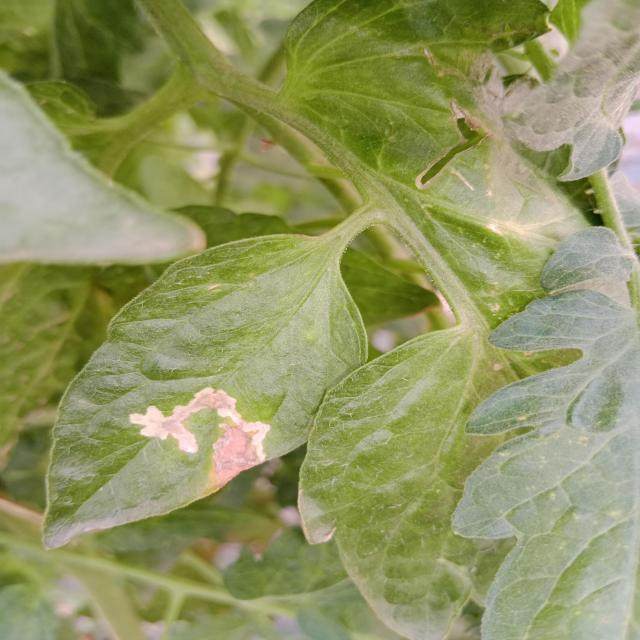Tuta absoluta: (124, 352, 284, 501)
